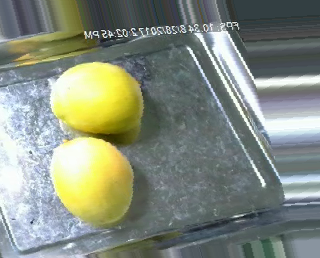Mango: (51, 136, 132, 222), (50, 62, 142, 133)
